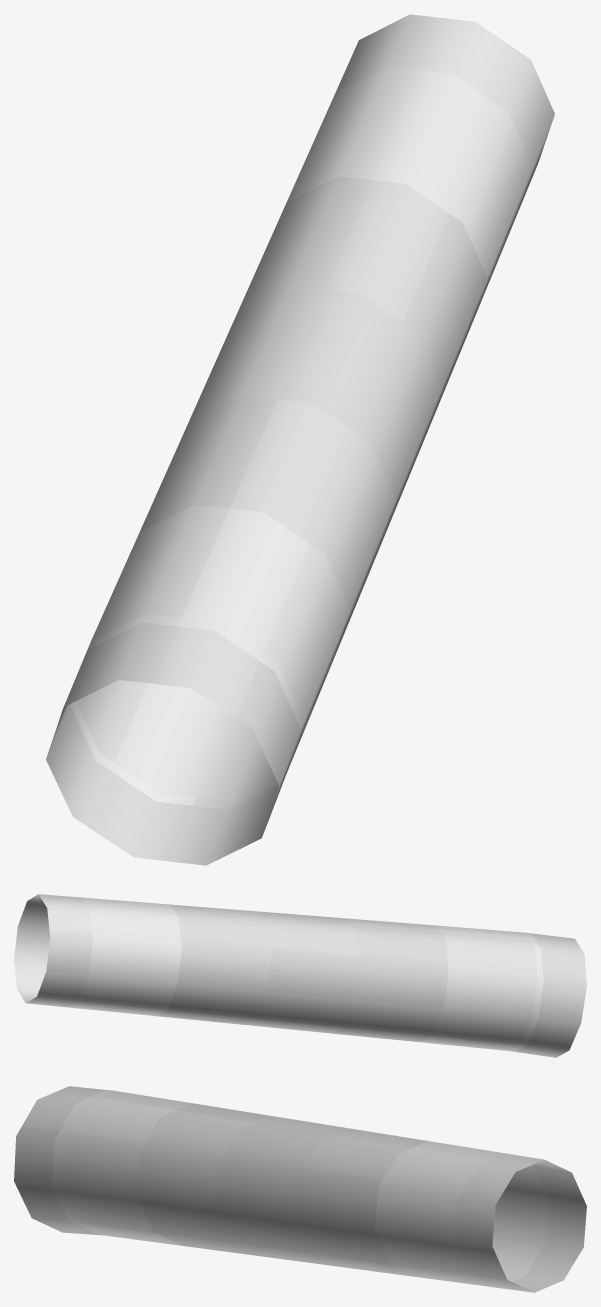
File: nycsignalarm_diagonal4_c3.obj
3 renders of one model, top to bottom at view 1: azimuth 30°, elevation 25°; view 2: azimuth 150°, elevation 25°; view 3: azimuth 270°, elevation 25°, orthographic. The views are drawn at different scales.
Parts seen in each view (by area): view 1: nycsignalarm_diagonal4_c3; view 2: nycsignalarm_diagonal4_c3; view 3: nycsignalarm_diagonal4_c3.
Part boxes in pixels (<box>): nycsignalarm_diagonal4_c3: <box>46,14,554,865</box>; nycsignalarm_diagonal4_c3: <box>14,894,586,1057</box>; nycsignalarm_diagonal4_c3: <box>14,1086,586,1292</box>.
Bounding box in the file's own units: 1.21 × 0.5842 × 1.21.
